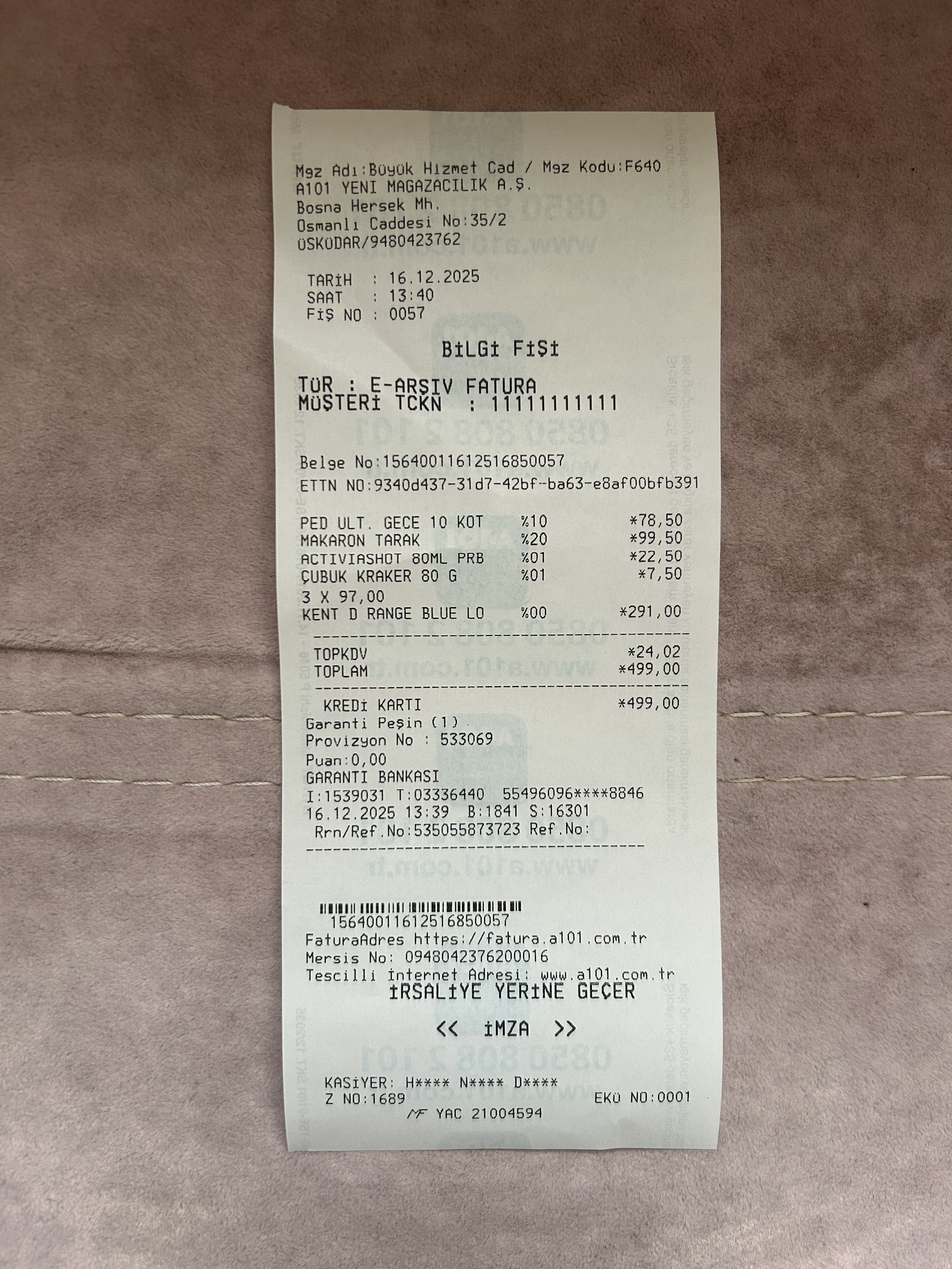date: (384, 259, 486, 287)
price: (624, 658, 689, 681)
workplace: (294, 155, 663, 235)
